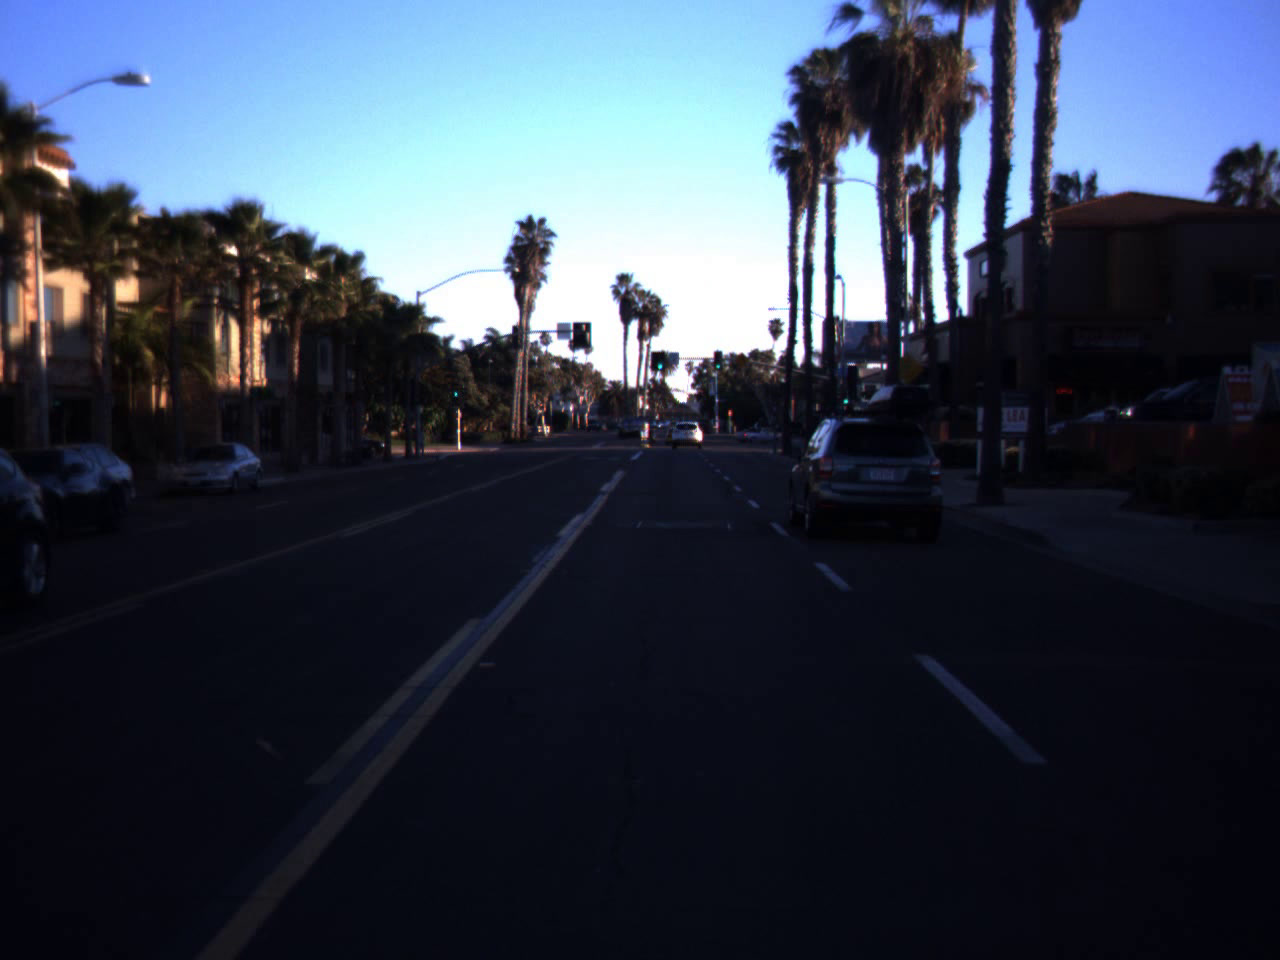go: (840, 385, 852, 405), (654, 350, 666, 370)
